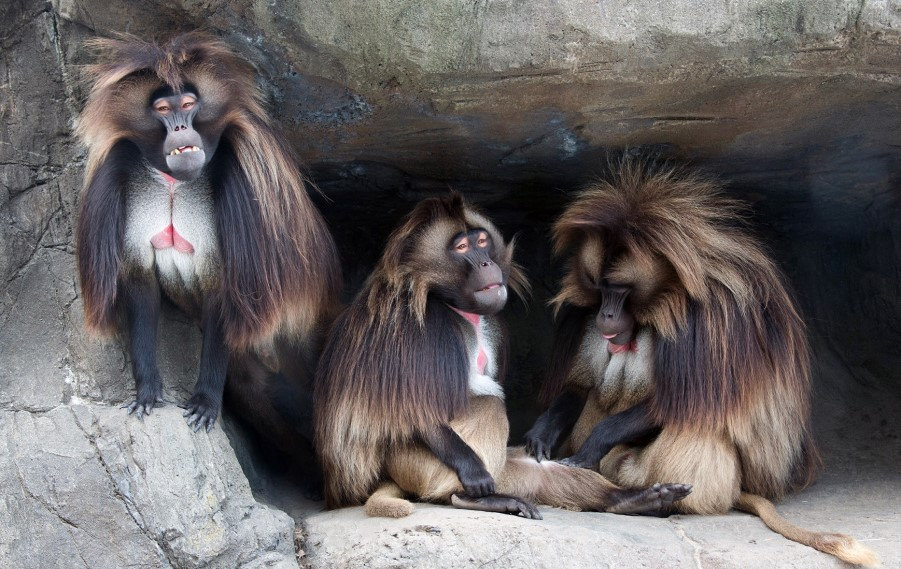Gelada: (554, 190, 830, 501), (65, 35, 325, 359), (301, 215, 531, 470)
